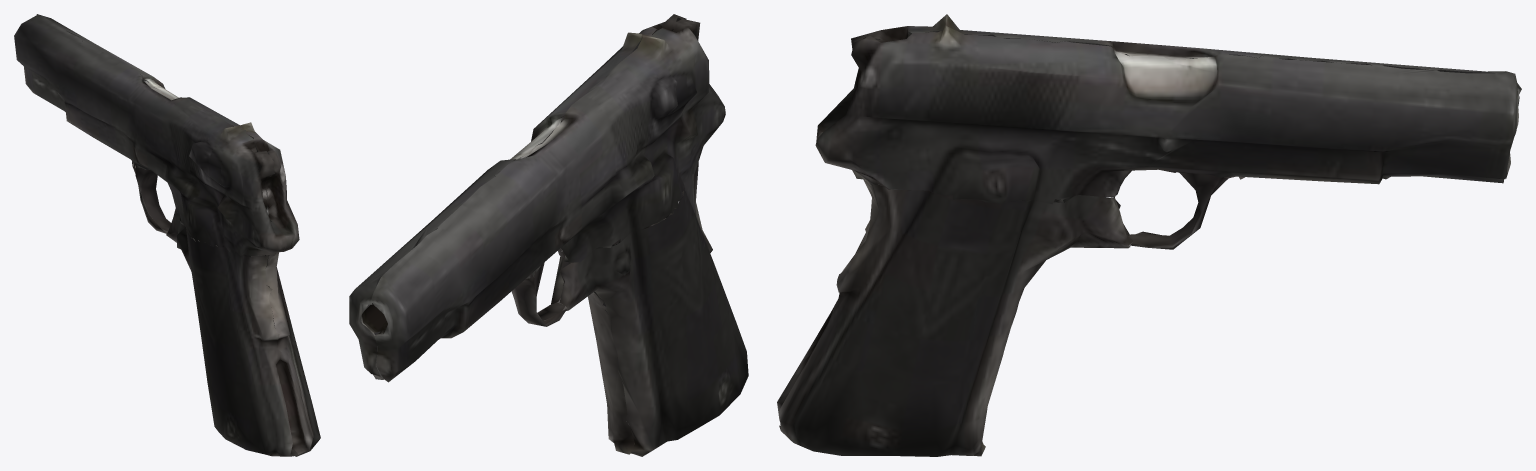
File: pistol_lod.glb
3 views of the same model, side by side, from view 1: azimuth 30°, elevation 25°; view 2: azimuth 150°, elevation 25°; view 3: azimuth 270°, elevation 25° (orthographic). The views are drawn at different scales.
Visible parts, largest first — view 1: Object_2; view 2: Object_2; view 3: Object_2.
Boxes of the visible parts, x1=… form: Object_2: x1=14, y1=14, x2=320, y2=456; Object_2: x1=349, y1=14, x2=748, y2=456; Object_2: x1=777, y1=14, x2=1521, y2=456.
Size of the model in its own units: 0.1539 by 0.6316 by 1.
1 material, 1 textured.
